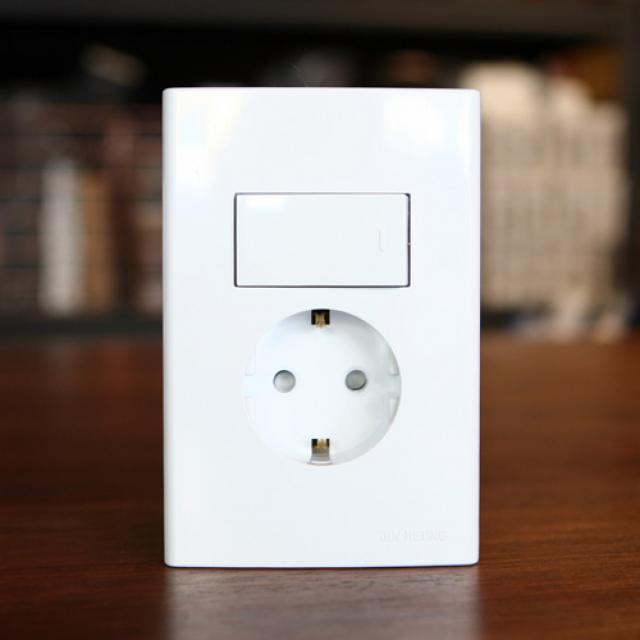typeb: (147, 48, 504, 604)
